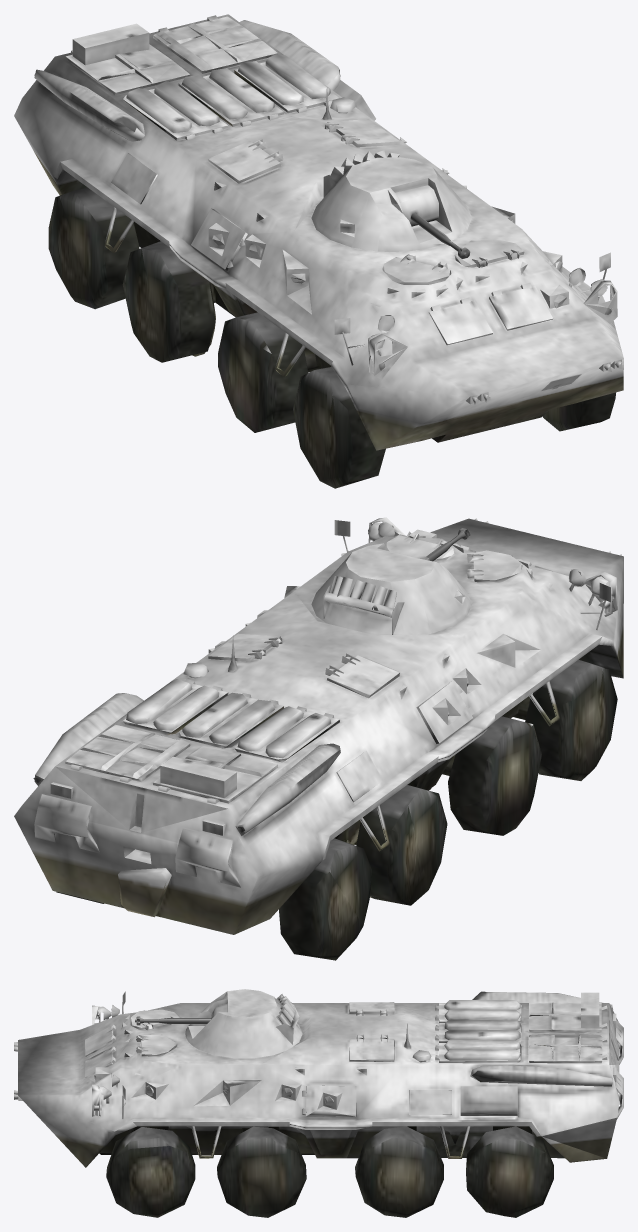
File: mech-inf.glb
3 renders of one model, top to bottom at view 1: azimuth 30°, elevation 25°; view 2: azimuth 150°, elevation 25°; view 3: azimuth 270°, elevation 25°, orthographic. The views are drawn at different scales.
Visible parts, largest first — view 1: mech-inf; view 2: mech-inf; view 3: mech-inf.
Part boxes in pixels (<box>): mech-inf: <box>14,14,623,488</box>; mech-inf: <box>14,517,623,960</box>; mech-inf: <box>14,989,623,1217</box>.
Size of the model in its own units: 2.96 by 2.37 by 7.7.
2 materials, 2 textured.
